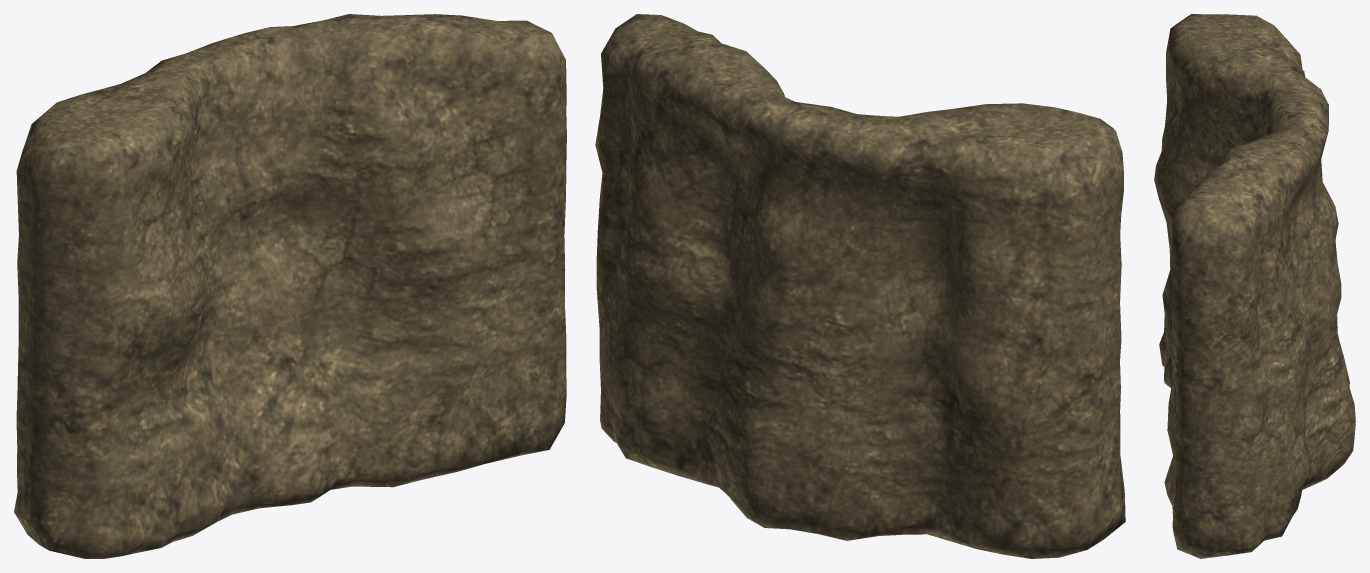
The model's file is CaveWalls1_B.obj.
3 renders of one model, left to right at view 1: azimuth 30°, elevation 25°; view 2: azimuth 150°, elevation 25°; view 3: azimuth 270°, elevation 25°, orthographic. The views are drawn at different scales.
Parts seen in each view (by area): view 1: CaveWalls1B; view 2: CaveWalls1B; view 3: CaveWalls1B.
Boxes of the visible parts, x1=… form: CaveWalls1B: x1=14, y1=14, x2=566, y2=558; CaveWalls1B: x1=595, y1=14, x2=1125, y2=558; CaveWalls1B: x1=1154, y1=14, x2=1355, y2=558.
Size of the model in its own units: 42.96 by 33.57 by 16.96.
Materials: 1 (1 with a texture image).
